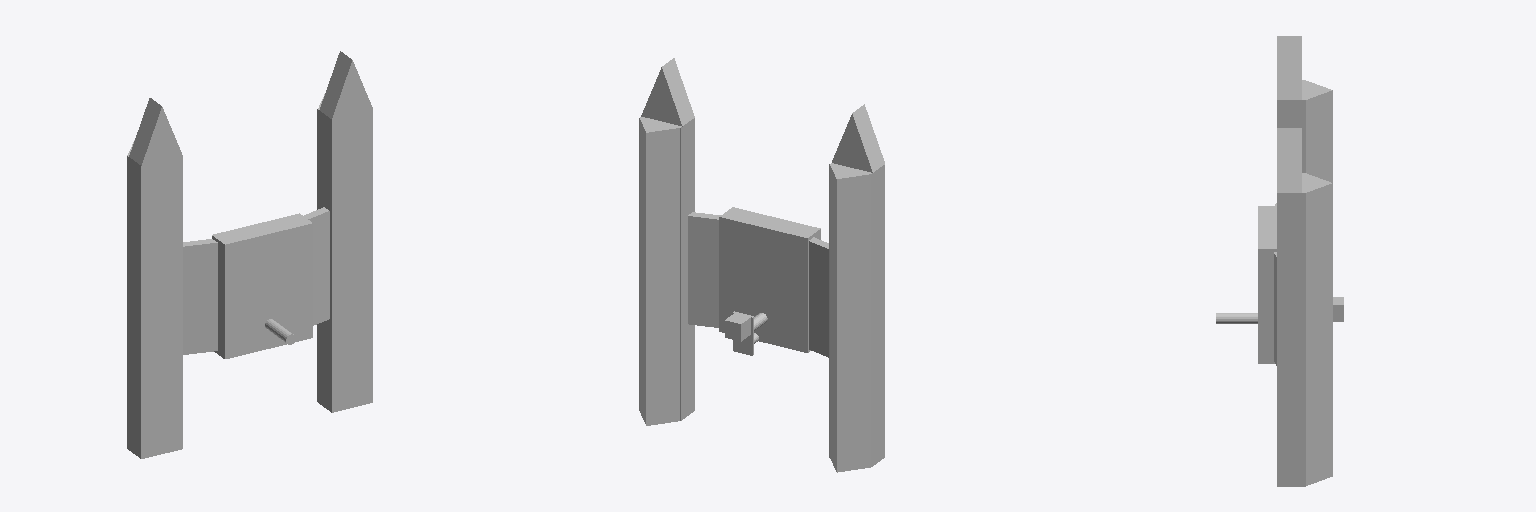
Rendered from ulysse.obj.
3 views of the same model, side by side, from view 1: azimuth 30°, elevation 25°; view 2: azimuth 150°, elevation 25°; view 3: azimuth 270°, elevation 25° (orthographic).
Parts seen in each view (by area): view 1: obj_0; view 2: obj_0; view 3: obj_0.
Boxes of the visible parts, <box> form: obj_0: <box>127,51,372,458</box>; obj_0: <box>639,58,884,472</box>; obj_0: <box>1216,36,1343,486</box>.
Bounding box in the file's own units: 140 × 200 × 67.